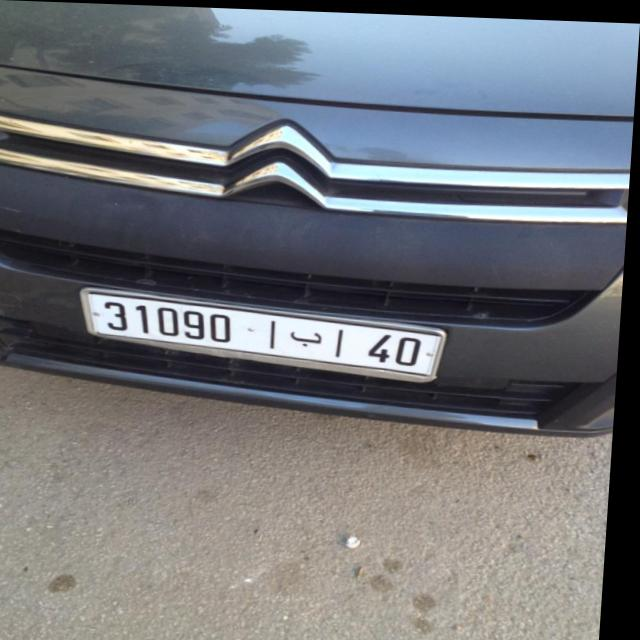License-Plate: (85, 287, 450, 379)
